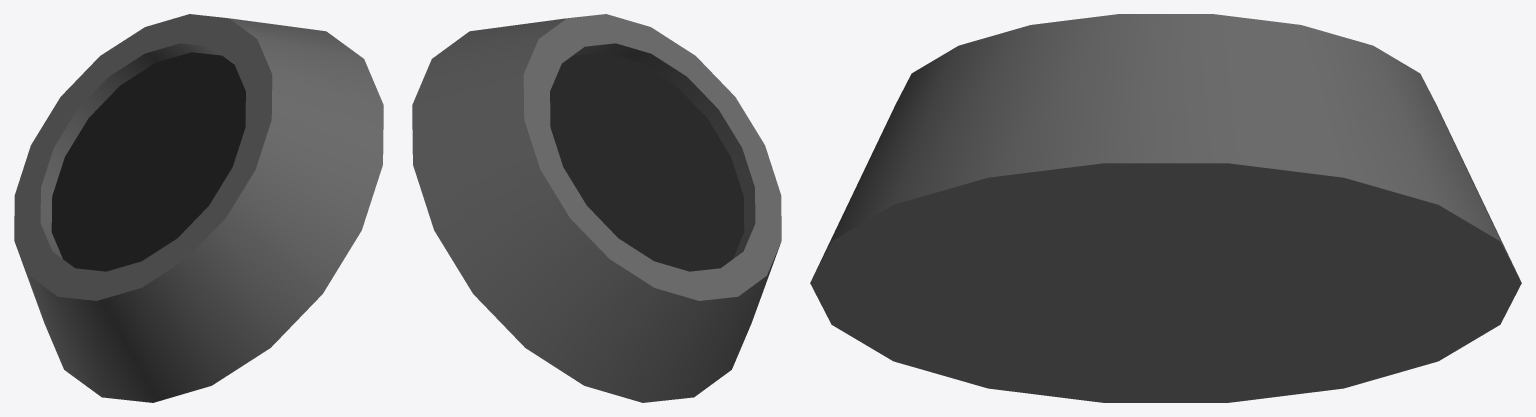
Rendered from Roof Vent L.glb.
3 renders of one model, left to right at view 1: azimuth 30°, elevation 25°; view 2: azimuth 150°, elevation 25°; view 3: azimuth 270°, elevation 25°, orthographic. The views are drawn at different scales.
Parts seen in each view (by area): view 1: Roof_VentL; view 2: Roof_VentL; view 3: Roof_VentL.
Boxes of the visible parts, box(x1,y1,x2,y2) form: Roof_VentL: box(14, 14, 383, 402); Roof_VentL: box(412, 14, 781, 402); Roof_VentL: box(810, 14, 1521, 402).
Size of the model in its own units: 1.15 by 1.15 by 1.43.
1 material, 1 textured.
